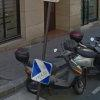Motorcycle: (14, 34, 99, 94)
